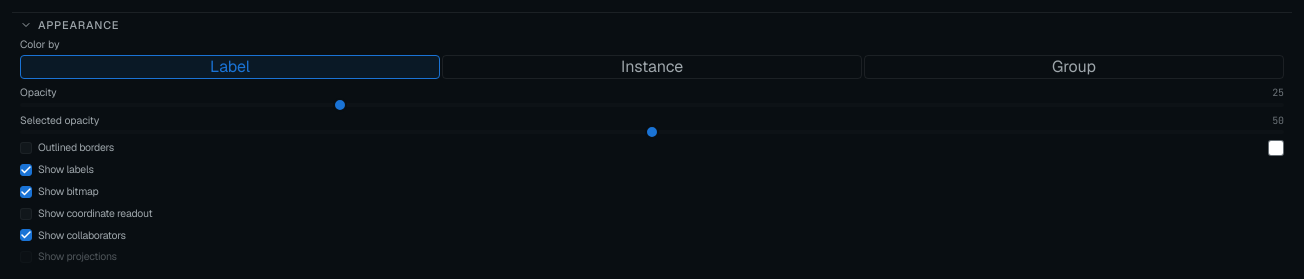
AppearancePanel — controls render › collapses content when the toggle is clicked
Click the button with test id "appearance-panel-toggle": click(79, 24) left=12, top=13, right=1292, bottom=37
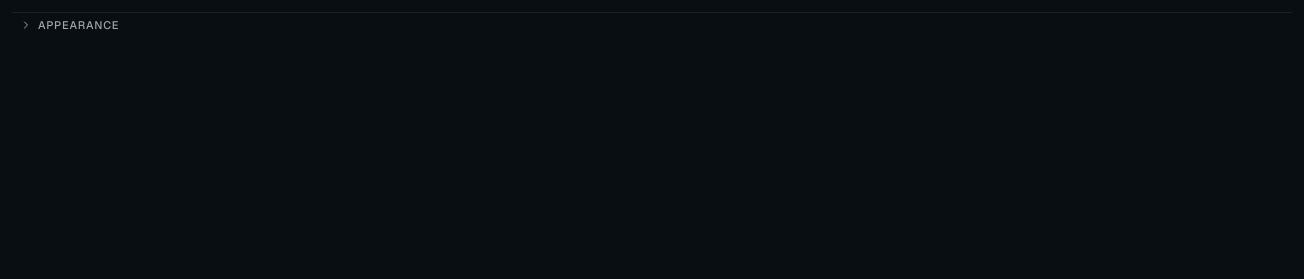
Check: the slider with test id "appearance-opacity" is gone
